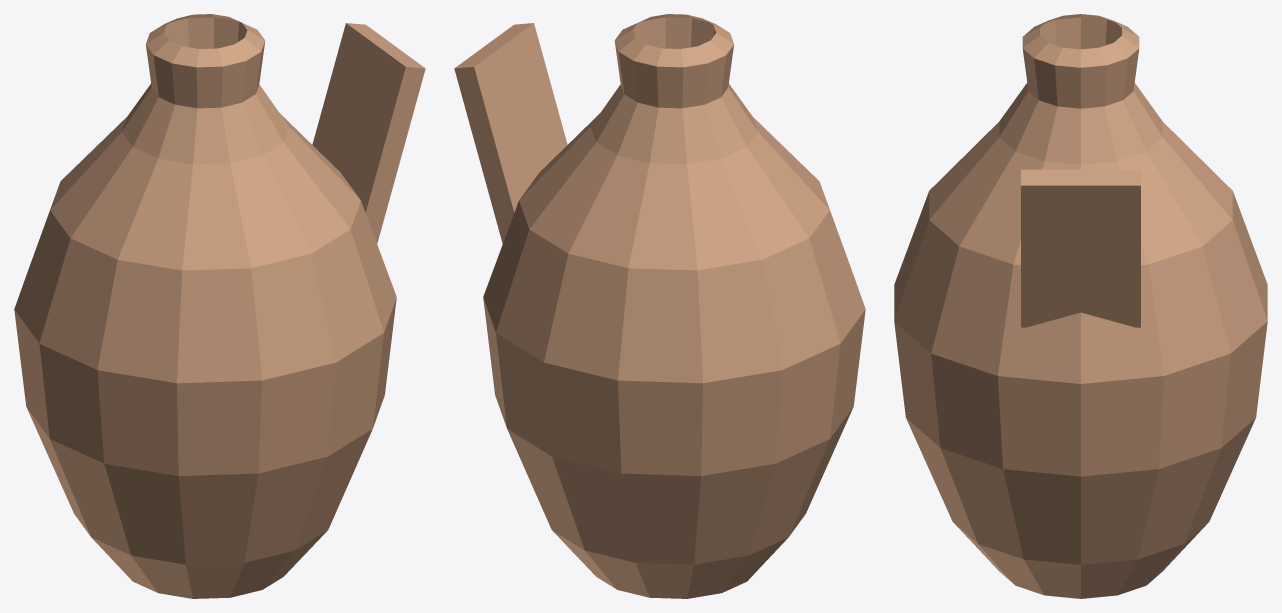
Rendered from testi.glb.
3 views of the same model, side by side, from view 1: azimuth 30°, elevation 25°; view 2: azimuth 150°, elevation 25°; view 3: azimuth 270°, elevation 25° (orthographic).
Visible parts, largest first — view 1: testi; view 2: testi; view 3: testi.
Boxes of the visible parts, bbox=[...] form: testi: bbox=[14, 14, 425, 598]; testi: bbox=[454, 14, 865, 598]; testi: bbox=[894, 14, 1267, 598].
Bounding box in the file's own units: 0.3432 × 0.49 × 0.312.
